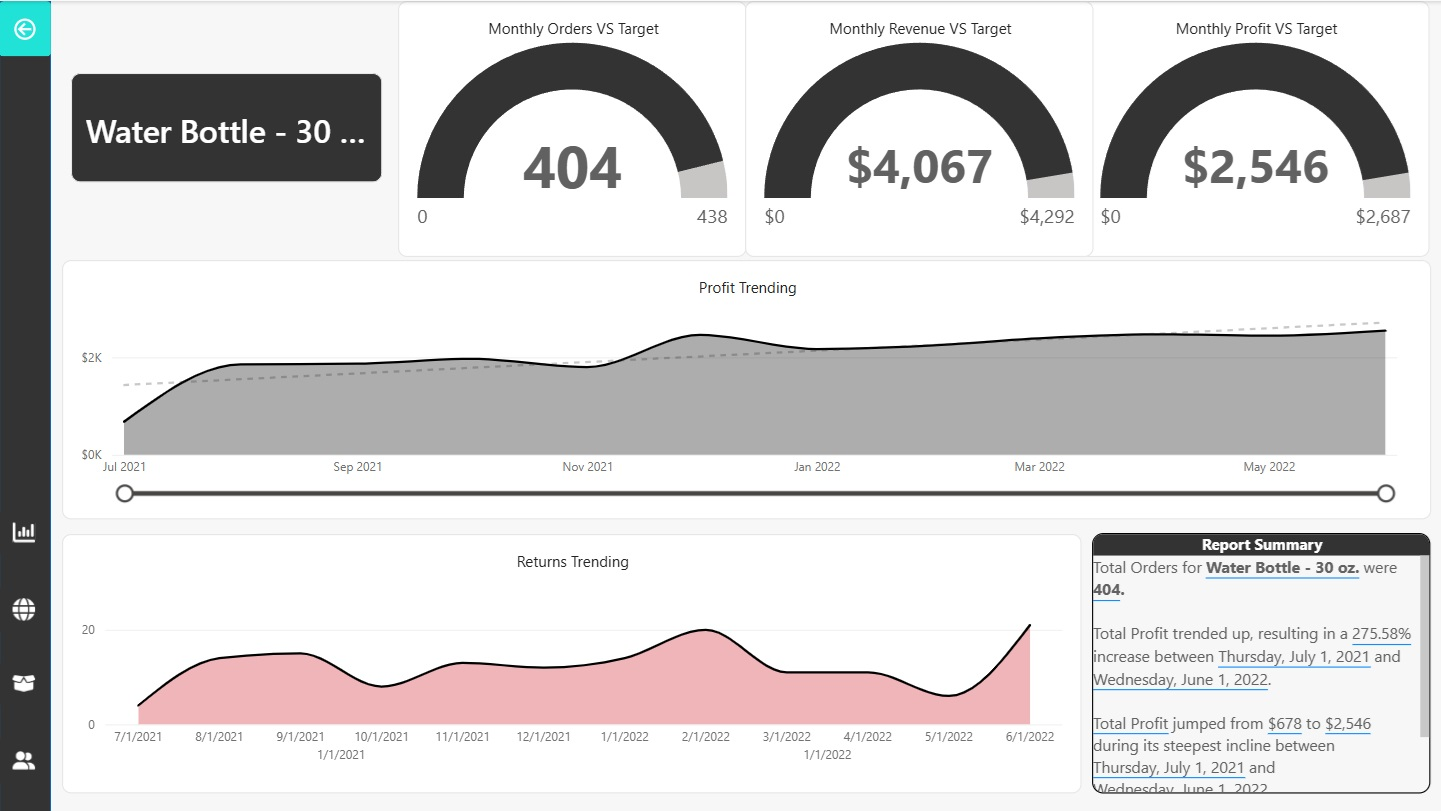

The page's visual inventory and layout, read from the dashboard file:
{"tool":"powerbi","page":{"name":"Products","canvas":[1280,720],"ordinal":2},"visuals":[{"type":"shape","title":"Left Nav Background","box":[0,0,46.2,720.1],"z":0},{"type":"gauge","title":"Monthly Orders VS Target","fields":{"MaxValue":["Measure Table.Order Target"],"Y":["Measure Table.TotalOrders"]},"box":[354.1,0,309.3,226.8],"z":1000},{"type":"actionButton","box":[0,452.2,44.3,39],"z":1000,"group":"g1"},{"type":"gauge","title":"Monthly Profit VS Target","fields":{"MaxValue":["Measure Table.Profit Target"],"Y":["Measure Table.Total Profit"]},"box":[959.8,0,309.3,226.8],"z":2000},{"type":"actionButton","box":[0,654.4,44.3,39],"z":2000,"group":"g1"},{"type":"gauge","title":"Monthly Revenue VS Target","fields":{"MaxValue":["Measure Table.Revenue Target"],"Y":["Measure Table.TotalRevenue"]},"box":[661.4,0,309.3,226.8],"z":3000},{"type":"actionButton","box":[0,586.5,44.3,39],"z":3000,"group":"g1"},{"type":"areaChart","title":"Profit Trending","fields":{"Category":["Calendar Lookup.Date Hierarchy.Start of Year","Calendar Lookup.Date Hierarchy.Start of Month","Calendar Lookup.Date Hierarchy.Start of Week","Calendar Lookup.Date Hierarchy.Date"],"Y":["Measure Table.Total Profit"]},"box":[55.7,229.7,1214.4,229.7],"z":4000},{"type":"actionButton","box":[0,520.1,44.3,39],"z":4000,"group":"g1"},{"type":"areaChart","title":"Returns Trending","fields":{"Category":["Calendar Lookup.Date Hierarchy.Start of Year","Calendar Lookup.Date Hierarchy.Start of Month","Calendar Lookup.Date Hierarchy.Start of Week","Calendar Lookup.Date Hierarchy.Date"],"Y":["Measure Table.TotalReturns"]},"box":[55.4,472.7,904.1,229.8],"z":5000},{"type":"actionButton","box":[0,0,46.4,49.3],"z":6000},{"type":"cardVisual","fields":{"Data":["Min(Product Lookup.ProductName)"]},"box":[63.5,63.5,276.2,97.8],"z":7000},{"type":"group","id":"g1","title":"Group 1","box":[0,452.2,44.3,241.2],"z":8000},{"type":"textbox","title":"Report Summary","box":[969.2,471.7,299.7,230.5],"z":9000}]}

Visuals, with their boxes on the page's 1280x720 design canvas (x1, y1, x2, y2). These are canvas units, not pixel positions in the 1441x811 screenshot, which may show the page scaled, cropped or inside an application window:
"Left Nav Background" shape: l=0, t=0, r=46, b=720
"Monthly Orders VS Target" gauge: l=354, t=0, r=663, b=227
actionButton: l=0, t=452, r=44, b=491
"Monthly Profit VS Target" gauge: l=960, t=0, r=1269, b=227
actionButton: l=0, t=654, r=44, b=693
"Monthly Revenue VS Target" gauge: l=661, t=0, r=971, b=227
actionButton: l=0, t=586, r=44, b=626
"Profit Trending" areaChart: l=56, t=230, r=1270, b=459
actionButton: l=0, t=520, r=44, b=559
"Returns Trending" areaChart: l=55, t=473, r=960, b=702
actionButton: l=0, t=0, r=46, b=49
cardVisual - Min(Product Lookup.ProductName): l=64, t=64, r=340, b=161
"Group 1" group: l=0, t=452, r=44, b=693
"Report Summary" textbox: l=969, t=472, r=1269, b=702
